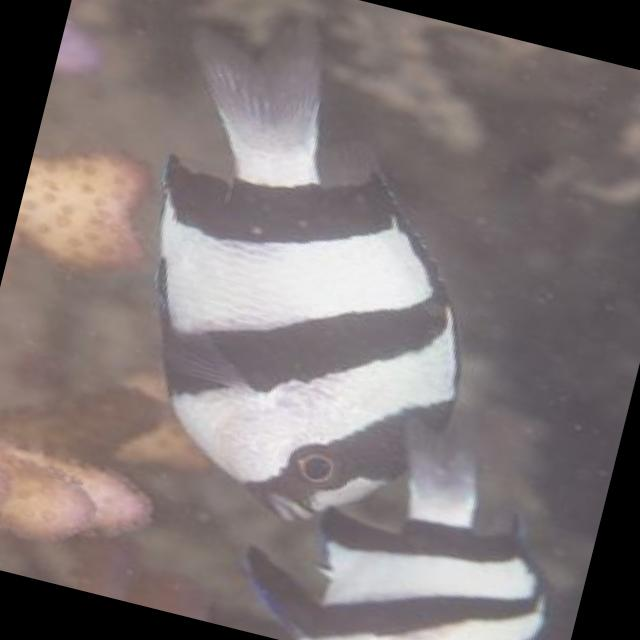ThreeStripedDamselfish: (157, 25, 456, 519)
